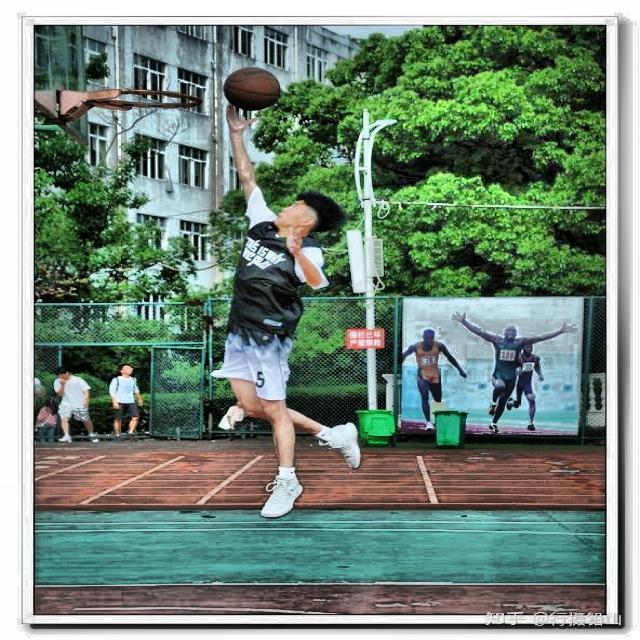board: (224, 68, 282, 110)
